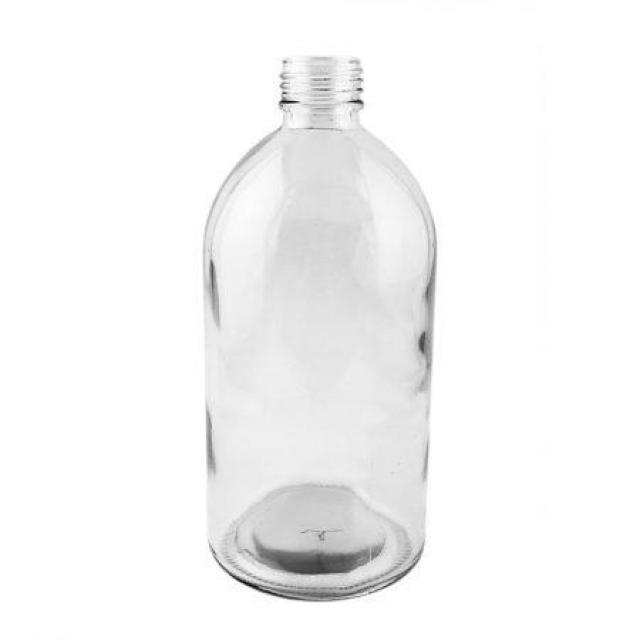plastic_bottle: (195, 42, 453, 595)
